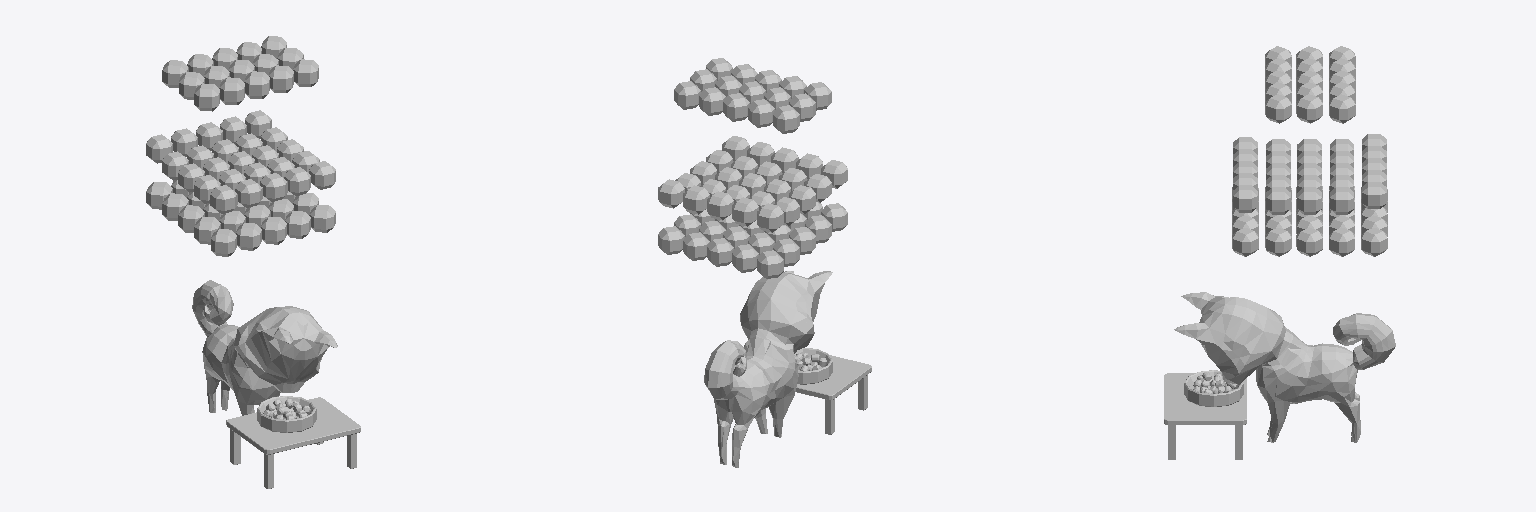
The model's file is fullBowl_frame66.obj.
3 views of the same model, side by side, from view 1: azimuth 30°, elevation 25°; view 2: azimuth 150°, elevation 25°; view 3: azimuth 270°, elevation 25° (orthographic).
Parts seen in each view (by area): view 1: newRigging1:BodzL1, Tisch:Tisch:pCube1, FressnapfFull:bulletRigidSetSolved1, FressnapfFull:pCube57, FressnapfFull:pCube45, FressnapfFull:pCube46, FressnapfFull:pCube36, FressnapfFull:pCube43, FressnapfFull:pCube50, FressnapfFull:pCube42, FressnapfFull:pCube48, FressnapfFull:pCube49 (+10 smaller); view 2: newRigging1:BodzL1, Tisch:Tisch:pCube1, FressnapfFull:bulletRigidSetSolved1, FressnapfFull:pCube51, FressnapfFull:pCube39, FressnapfFull:pCube64, FressnapfFull:pCube53, FressnapfFull:pCube55, FressnapfFull:pCube54, FressnapfFull:pCube37, FressnapfFull:pCube38, FressnapfFull:pCube41 (+8 smaller); view 3: newRigging1:BodzL1, Tisch:Tisch:pCube1, FressnapfFull:bulletRigidSetSolved1, FressnapfFull:pCube31, FressnapfFull:pCube55, FressnapfFull:pCube4, FressnapfFull:pCube41, FressnapfFull:pCube10, FressnapfFull:pCube36, FressnapfFull:pCube50, FressnapfFull:pCube30, FressnapfFull:pCube25 (+4 smaller).
Part boxes in pixels (x1,y1,x2,y2): newRigging1:BodzL1: (192, 280, 337, 415); Tisch:Tisch:pCube1: (226, 397, 360, 488); FressnapfFull:bulletRigidSetSolved1: (257, 396, 316, 432); FressnapfFull:pCube57: (210, 185, 237, 213); FressnapfFull:pCube45: (194, 83, 219, 111); FressnapfFull:pCube46: (211, 229, 236, 256); FressnapfFull:pCube36: (293, 59, 318, 86); FressnapfFull:pCube43: (244, 71, 269, 98); FressnapfFull:pCube50: (309, 205, 335, 232); FressnapfFull:pCube42: (219, 77, 244, 104); FressnapfFull:pCube48: (261, 217, 286, 244); FressnapfFull:pCube49: (236, 223, 261, 250); newRigging1:BodzL1: (704, 271, 832, 467); Tisch:Tisch:pCube1: (796, 355, 871, 434); FressnapfFull:bulletRigidSetSolved1: (794, 348, 832, 384); FressnapfFull:pCube51: (757, 250, 783, 278); FressnapfFull:pCube39: (773, 105, 799, 133); FressnapfFull:pCube64: (757, 203, 783, 232); FressnapfFull:pCube53: (707, 238, 733, 266); FressnapfFull:pCube55: (658, 226, 684, 254); FressnapfFull:pCube54: (732, 244, 758, 272); FressnapfFull:pCube37: (748, 99, 774, 127); FressnapfFull:pCube38: (723, 93, 749, 121); FressnapfFull:pCube41: (674, 81, 700, 109); newRigging1:BodzL1: (1174, 292, 1395, 442); Tisch:Tisch:pCube1: (1164, 373, 1246, 459); FressnapfFull:bulletRigidSetSolved1: (1184, 370, 1243, 406); FressnapfFull:pCube31: (1296, 94, 1322, 123); FressnapfFull:pCube55: (1361, 228, 1387, 256); FressnapfFull:pCube4: (1296, 227, 1322, 256); FressnapfFull:pCube41: (1329, 94, 1355, 123); FressnapfFull:pCube10: (1265, 228, 1291, 256); FressnapfFull:pCube36: (1265, 94, 1291, 123); FressnapfFull:pCube50: (1232, 228, 1258, 256); FressnapfFull:pCube30: (1297, 187, 1321, 214); FressnapfFull:pCube25: (1266, 187, 1290, 214).
Size of the model in its own units: 5.73 by 16.34 by 9.44.